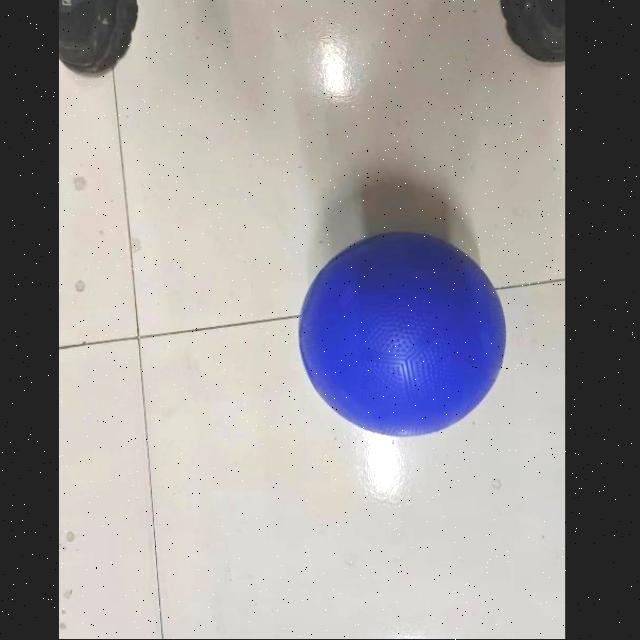B: (299, 227, 507, 443)
